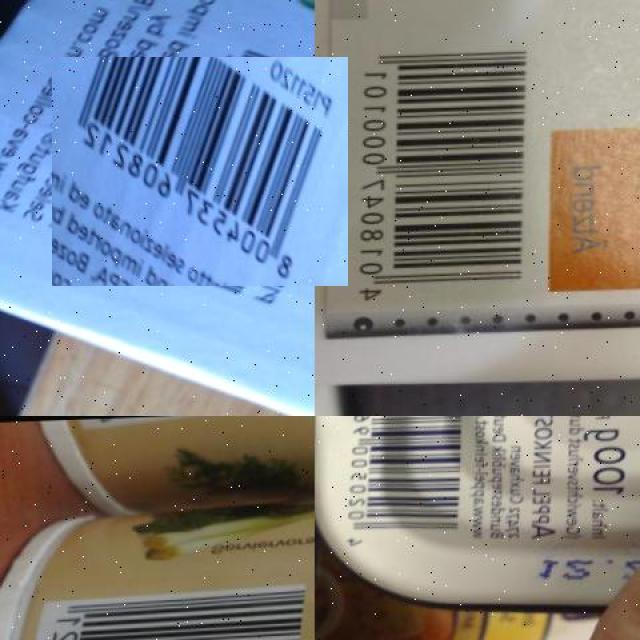Barcode: (69, 40, 331, 304), (344, 32, 536, 304), (340, 416, 475, 553), (26, 584, 306, 640)
